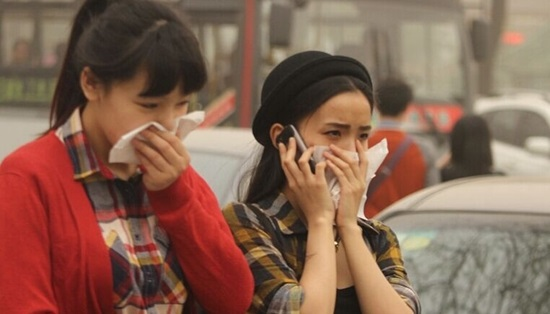face: (112, 73, 197, 171), (301, 98, 376, 198)
